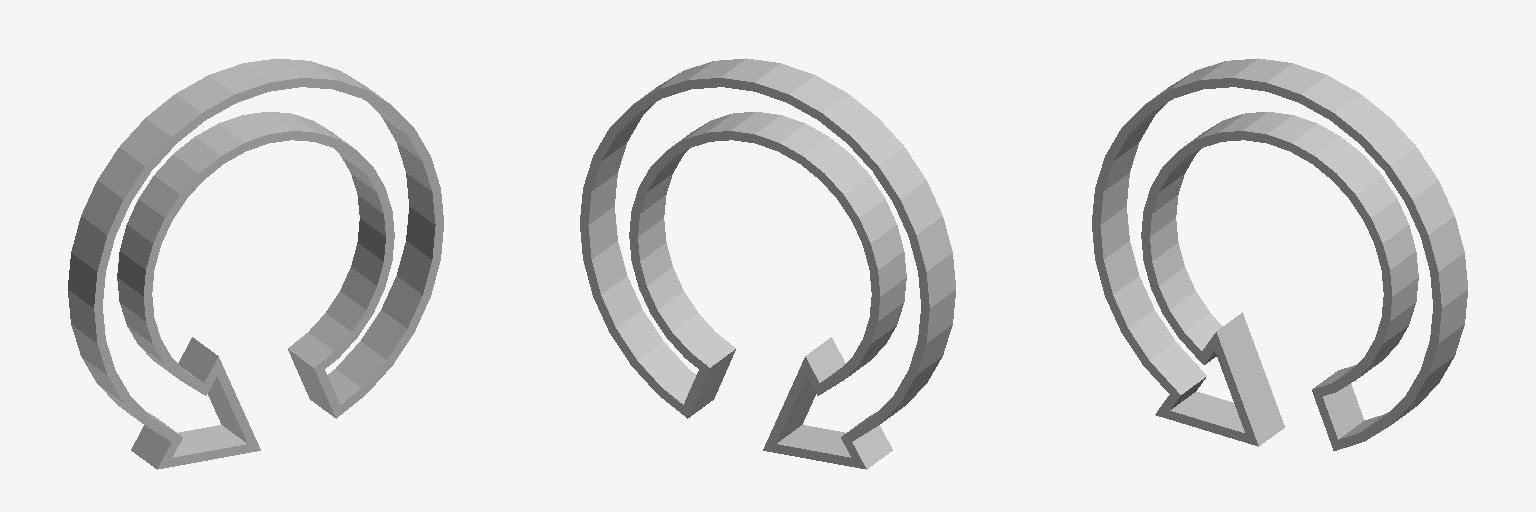
File: Arrow_41.obj
3 views of the same model, side by side, from view 1: azimuth 30°, elevation 25°; view 2: azimuth 150°, elevation 25°; view 3: azimuth 330°, elevation 25° (orthographic).
Visible parts, largest first — view 1: Arrow_41; view 2: Arrow_41; view 3: Arrow_41.
Boxes of the visible parts, box(x1,y1,x2,y2) form: Arrow_41: box(68, 58, 443, 469); Arrow_41: box(580, 58, 955, 469); Arrow_41: box(1092, 58, 1467, 450).
Bounding box in the file's own units: 3 × 2.99 × 0.3909.